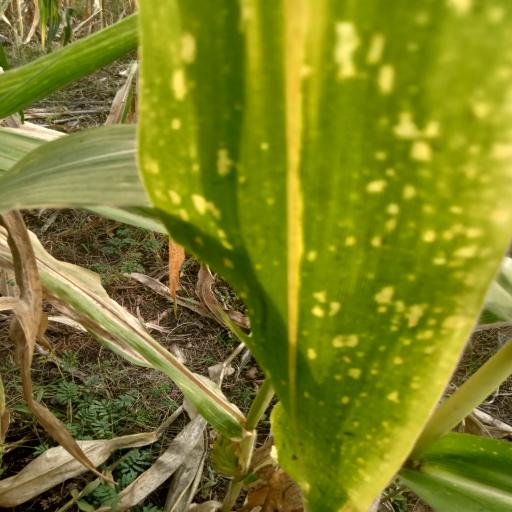Corn_Yellow_Spots: (125, 0, 512, 512)
